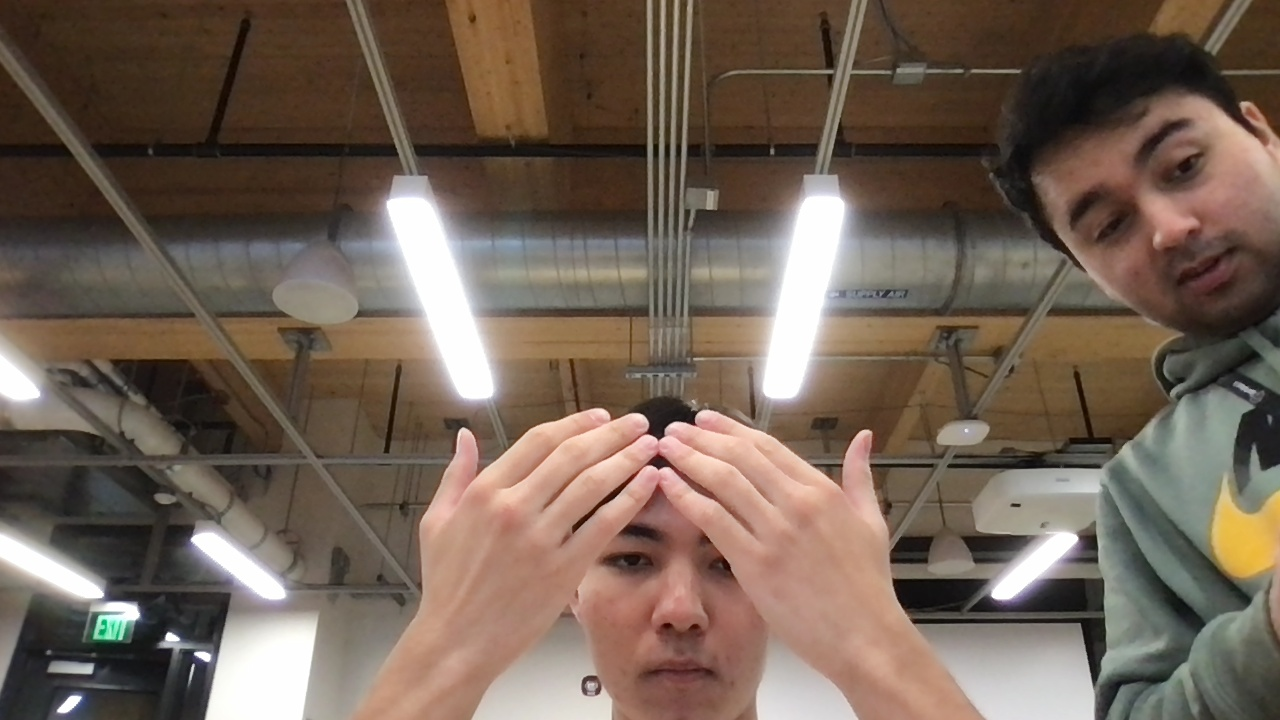Thank you: (234, 410, 989, 720)
